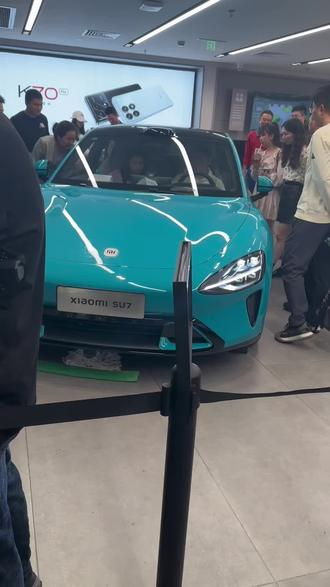su7: (26, 128, 274, 368)
